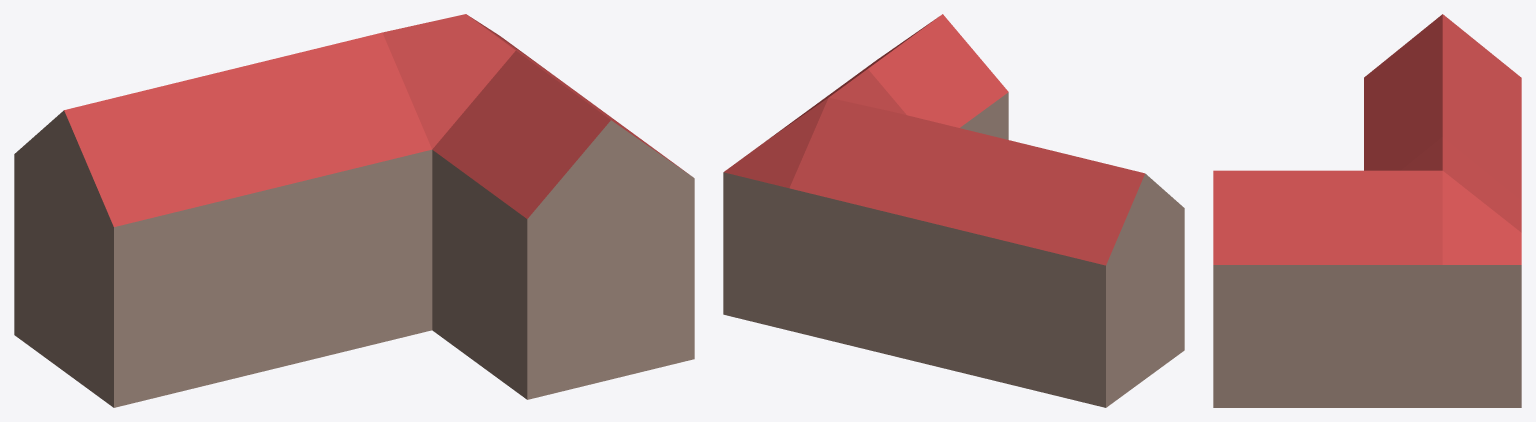
The model's file is house1.fbx.
The picture shows the model from 3 angles, left to right: view 1: azimuth 30°, elevation 25°; view 2: azimuth 150°, elevation 25°; view 3: azimuth 270°, elevation 25°; orthographic projection. The views are drawn at different scales.
Parts seen in each view (by area): view 1: House1; view 2: House1; view 3: House1.
Boxes of the visible parts, <box> form: House1: <box>14,14,694,407</box>; House1: <box>723,14,1184,407</box>; House1: <box>1213,14,1521,407</box>.
Bounding box in the file's own units: 53.7 × 37.32 × 27.61.
